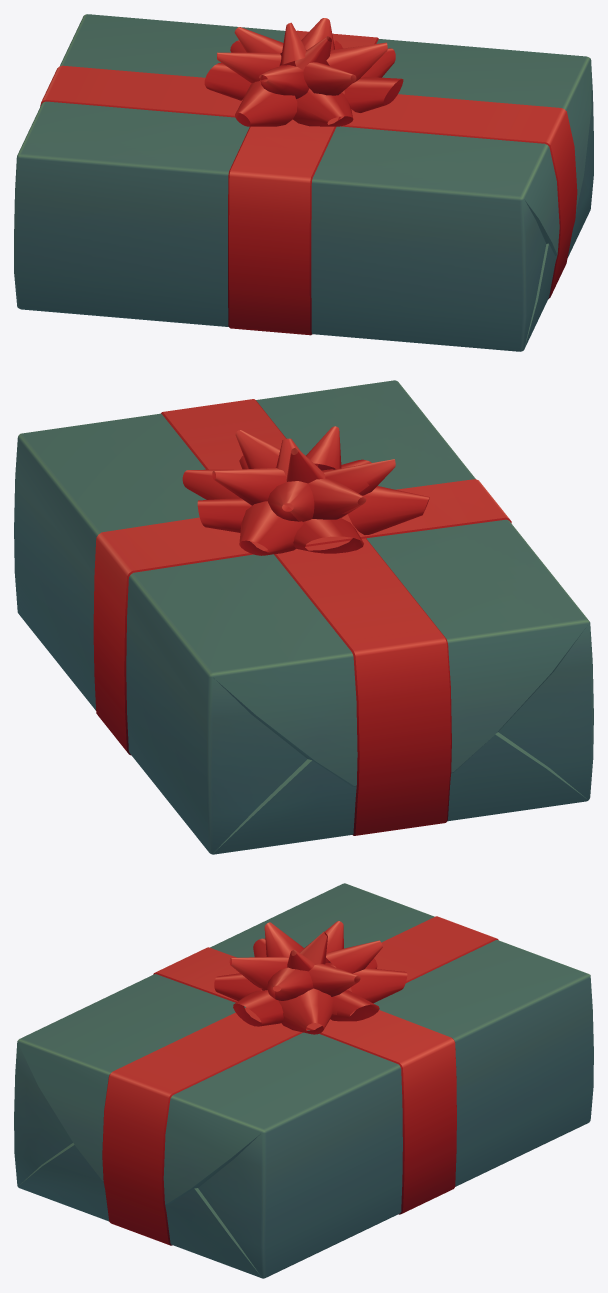
File: gift.gltf
The picture shows the model from 3 angles, top to bottom: view 1: azimuth 30°, elevation 25°; view 2: azimuth 150°, elevation 25°; view 3: azimuth 270°, elevation 25°; orthographic projection. The views are drawn at different scales.
Visible parts, largest first — view 1: Box, Ribbon_Ribbon_0; view 2: Box, Ribbon_Ribbon_0; view 3: Box, Ribbon_Ribbon_0.
Boxes of the visible parts, x1,y1,x2,y2 form: Box: [14, 14, 593, 351]; Ribbon_Ribbon_0: [40, 18, 577, 335]; Box: [14, 380, 593, 854]; Ribbon_Ribbon_0: [93, 399, 511, 835]; Box: [14, 883, 593, 1278]; Ribbon_Ribbon_0: [102, 916, 498, 1245].
Bounding box in the file's own units: 1.92 × 0.7989 × 1.87.
3 materials, 3 textured.
